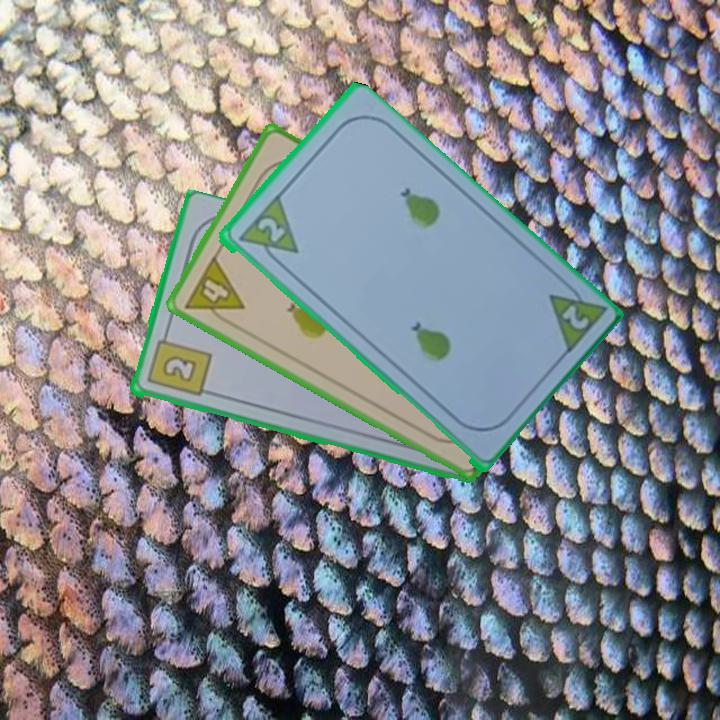2b: (143, 328, 213, 400)
2p: (544, 275, 608, 359), (253, 213, 288, 246)
4p: (181, 252, 247, 330)
